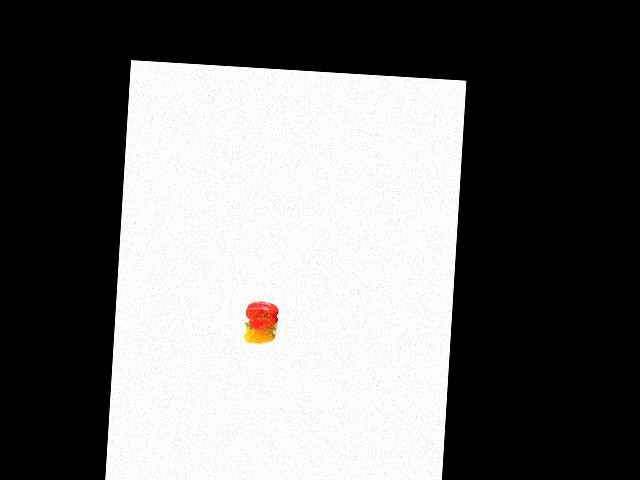bell_pepper: (244, 318, 277, 345)
